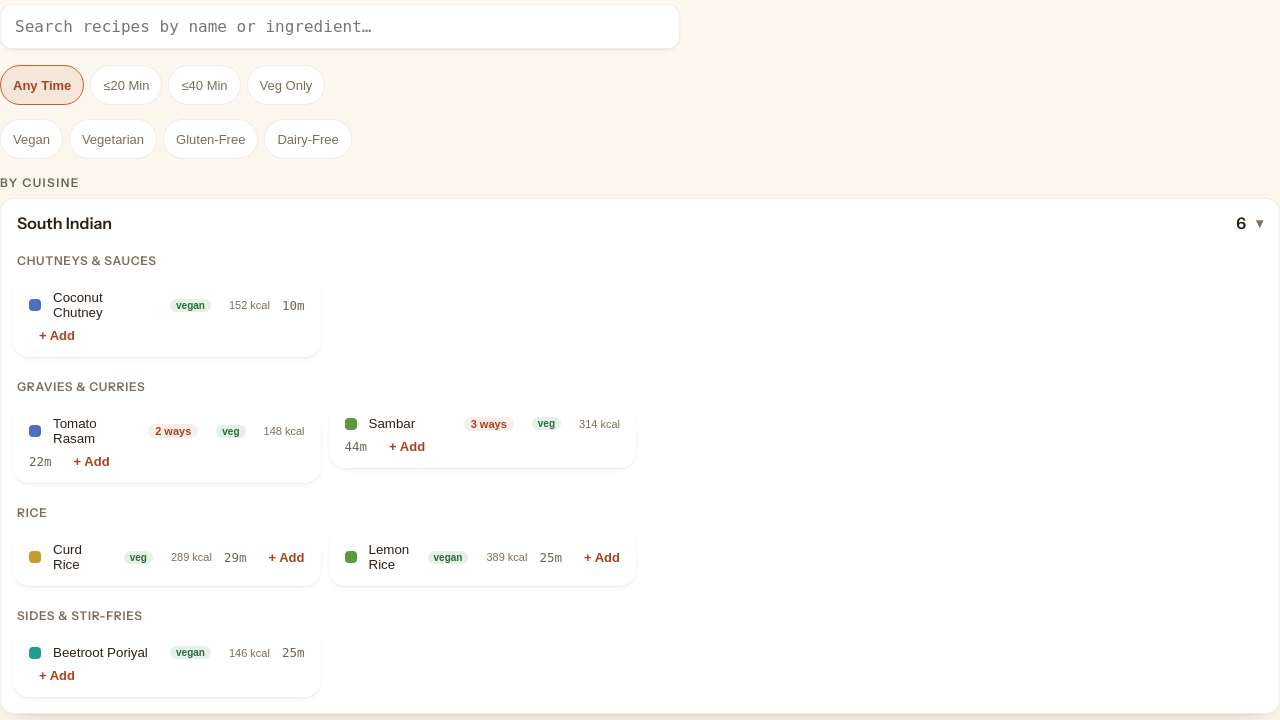
Test: RecipePicker › searching shows a flat result grid and hides the cuisine accordions
Type "rasam" into the search field labelled "Search recipes by name or ingredient…" at (340, 26), box [0,4,680,49]
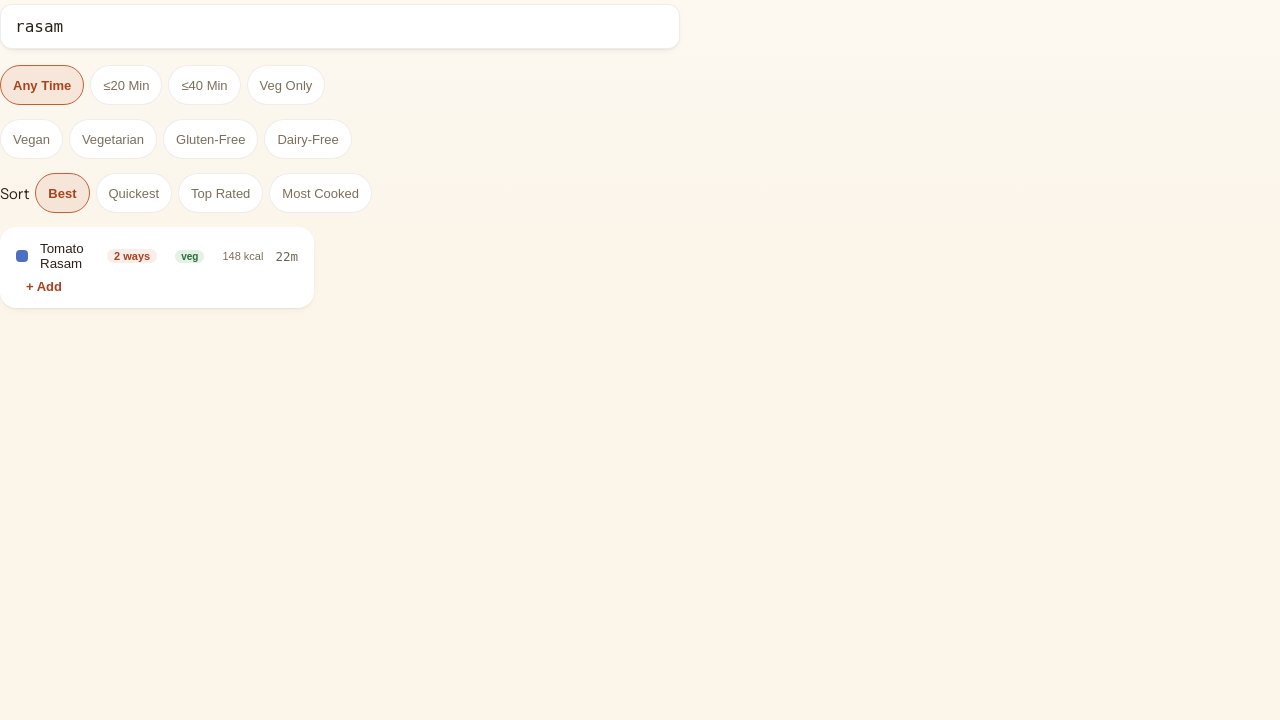
Expected: the button "add tomato rasam" is shown, [0,227,314,308]
Now the button "South Indian" is gone
